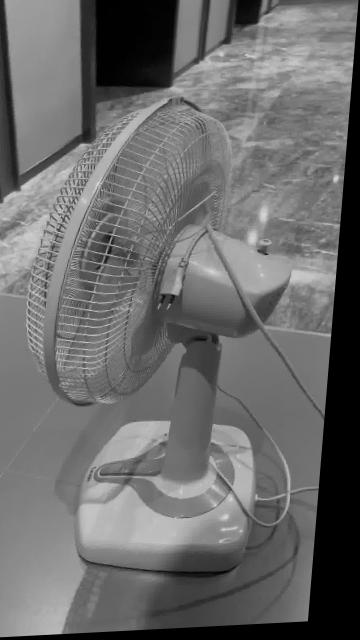Fan: (31, 98, 296, 579)
